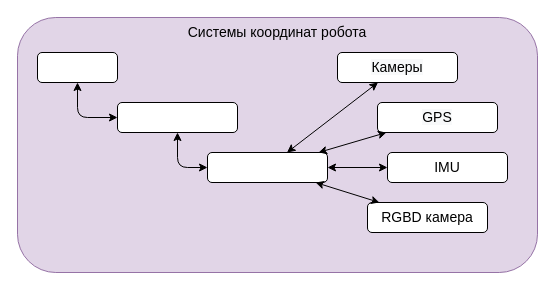
Some shapes in this 555 by 290 pixel diagram are drawn without their labels. The shapes that lost their labels are listed below. From the top down, each one's centre as x and y in pixels, then its label:
At point 77,67: "Карта".
At point 177,117: "Одометрия".
At point 267,167: "База робота".
